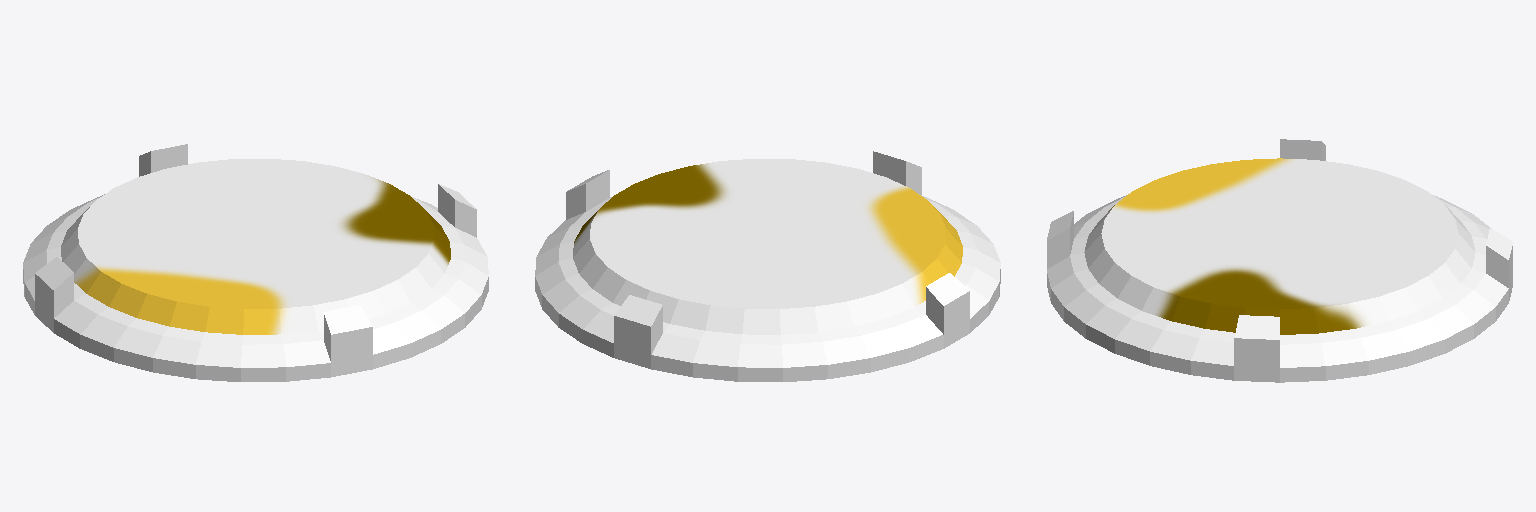
3 renders of one model, left to right at view 1: azimuth 30°, elevation 25°; view 2: azimuth 150°, elevation 25°; view 3: azimuth 270°, elevation 25°, orthographic.
Visible parts, largest first — view 1: Circle; view 2: Circle; view 3: Circle.
Part boxes in pixels (x1,y1,x2,y2): Circle: (23,144,488,381); Circle: (535,151,1000,381); Circle: (1047,139,1512,382).
Bounding box in the file's own units: 2.39 × 0.3161 × 2.39.
1 materials, 1 textured.